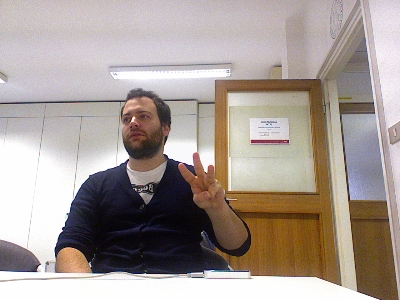三分: (176, 152, 224, 210)
